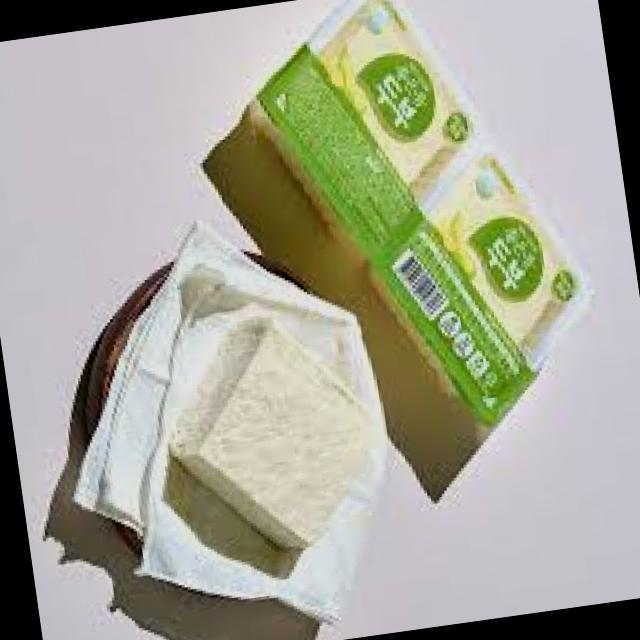tof: (304, 0, 571, 431), (151, 324, 397, 580)
